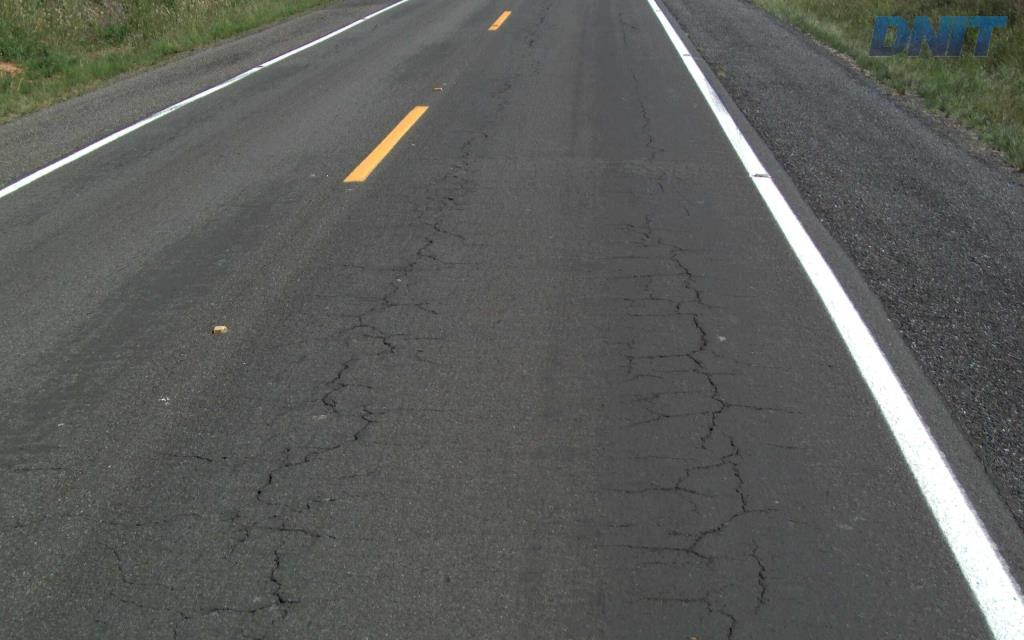crack: (206, 547, 301, 625), (692, 436, 756, 521), (254, 442, 340, 504), (627, 522, 726, 571), (700, 371, 732, 450), (320, 354, 359, 417), (264, 503, 322, 538), (636, 590, 713, 616), (748, 539, 770, 615)
